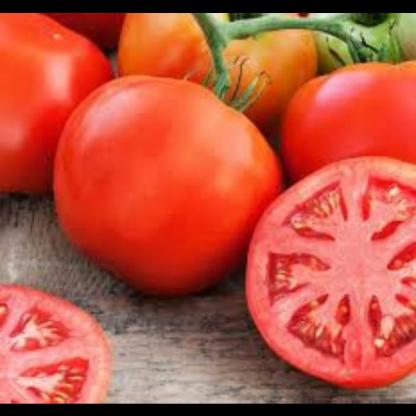tomato: (52, 73, 279, 295), (245, 148, 416, 388), (0, 12, 112, 193), (113, 12, 314, 108), (280, 55, 416, 187), (1, 285, 110, 402), (304, 12, 416, 60)
